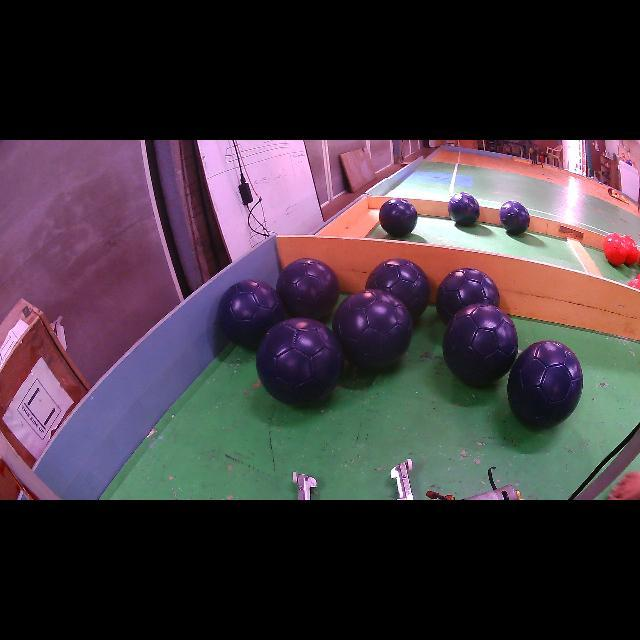B: (256, 318, 344, 405), (508, 340, 582, 429), (332, 289, 412, 369), (442, 304, 519, 385), (219, 280, 284, 349), (276, 258, 340, 320), (365, 259, 430, 319), (436, 268, 500, 324), (379, 198, 418, 238), (448, 192, 480, 226), (500, 201, 530, 235)
R: (602, 232, 628, 266), (621, 235, 639, 265), (628, 278, 640, 289)
